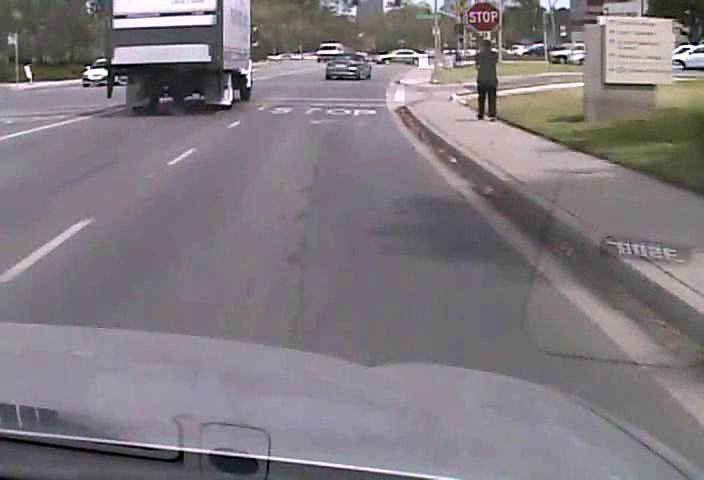stop: (467, 1, 500, 32)
